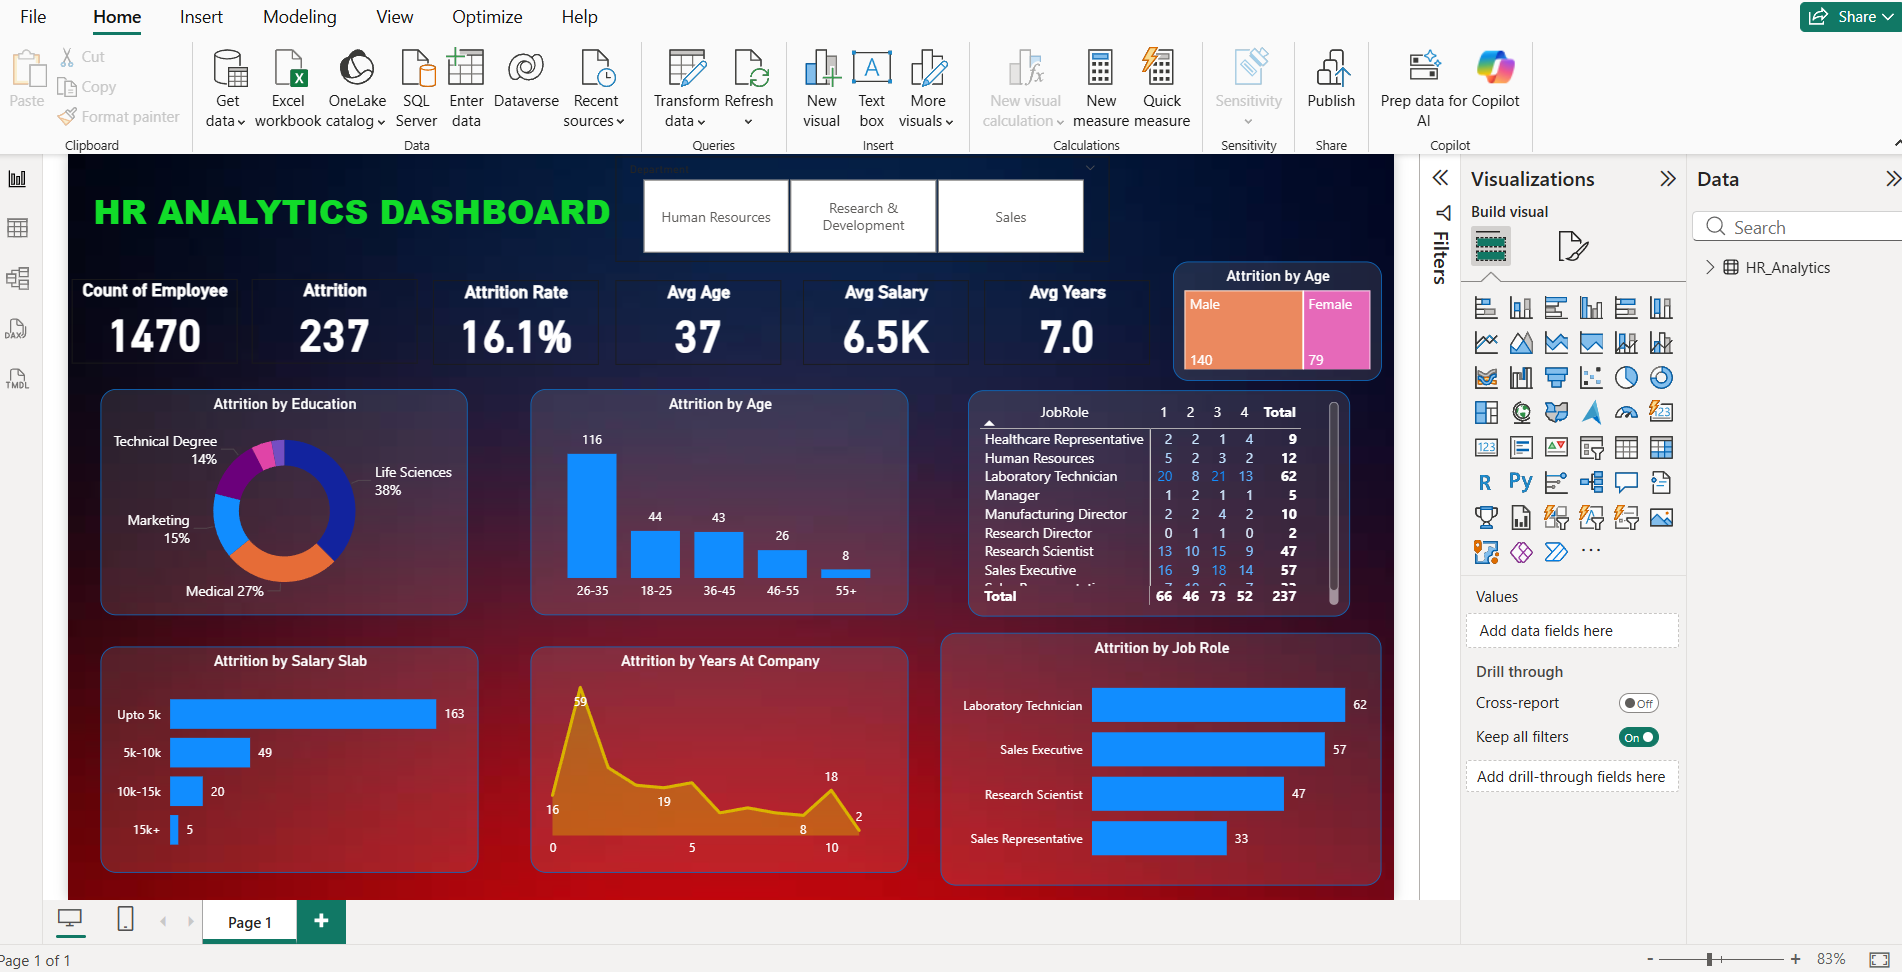

The dashboard page shown, as its layout file describes it:
{"tool":"powerbi","page":{"name":"Page 1","canvas":[1280,720],"ordinal":0},"visuals":[{"type":"card","title":"Count of Employee","fields":{"Values":["CountNonNull(HR_Analytics.EmpID)"]},"box":[3.1,120.5,159.7,81.8],"z":0},{"type":"card","title":"Attrition","fields":{"Values":["Sum(HR_Analytics.Attrition_count)"]},"box":[177.1,120.5,159.7,81.8],"z":1000},{"type":"card","title":"Attrition Rate","fields":{"Values":["HR_Analytics.AttritionRate"]},"box":[352.5,121.8,159.7,81.8],"z":2000},{"type":"card","title":"Avg Age","fields":{"Values":["Avg(HR_Analytics.Age)"]},"box":[528.6,122.1,159.7,81.8],"z":3000},{"type":"card","title":"Avg Salary","fields":{"Values":["Avg(HR_Analytics.MonthlyIncome)"]},"box":[709.1,122.1,159.7,81.8],"z":4000},{"type":"card","title":"Avg Years","fields":{"Values":["Avg(HR_Analytics.YearsAtCompany)"]},"box":[884.4,122.1,159.7,81.8],"z":5000},{"type":"donutChart","title":"Attrition by Education","fields":{"Category":["HR_Analytics.EducationField"],"Y":["Sum(HR_Analytics.Attrition_count)"]},"box":[31.2,227.3,354.5,218.2],"z":6000},{"type":"columnChart","title":"Attrition by Age","fields":{"Category":["HR_Analytics.AgeGroup"],"Y":["Sum(HR_Analytics.Attrition_count)"]},"box":[446.8,227.3,364.9,218.2],"z":7000},{"type":"pivotTable","fields":{"Rows":["HR_Analytics.JobRole"],"Columns":["HR_Analytics.JobSatisfaction"],"Values":["Sum(HR_Analytics.Attrition_count)"]},"box":[868.6,227.8,368.8,218.2],"z":8000},{"type":"barChart","title":"Attrition by Salary Slab","fields":{"Category":["HR_Analytics.SalarySlab"],"Y":["Sum(HR_Analytics.Attrition_count)"]},"box":[31.2,475.3,364.9,218.2],"z":9000},{"type":"barChart","title":"Attrition by Job Role","fields":{"Y":["Sum(HR_Analytics.Attrition_count)"],"Category":["HR_Analytics.JobRole"]},"box":[841.6,462.3,426,244.2],"z":10000},{"type":"areaChart","title":"Attrition by Years At Company","fields":{"Category":["HR_Analytics.YearsAtCompany"],"Y":["Sum(HR_Analytics.Attrition_count)"]},"box":[446.8,475.3,364.9,218.2],"z":11000},{"type":"treemap","title":"Attrition by Age","fields":{"Group":["HR_Analytics.Gender"],"Values":["Sum(HR_Analytics.Attrition_count)"]},"box":[1066.2,103.9,201.3,115.6],"z":12000},{"type":"slicer","fields":{"Values":["HR_Analytics.Department"]},"box":[528.6,2.6,476.6,101.3],"z":13000},{"type":"textbox","box":[19.5,27.3,522.1,55.8],"z":14000}]}

Visuals, with their boxes on the page's 1280x720 design canvas (x1, y1, x2, y2). These are canvas units, not pixel positions in the 1902x972 screenshot, which may show the page scaled, cropped or inside an application window:
"Count of Employee" card: [x1=3, y1=120, x2=163, y2=202]
"Attrition" card: [x1=177, y1=120, x2=337, y2=202]
"Attrition Rate" card: [x1=352, y1=122, x2=512, y2=204]
"Avg Age" card: [x1=529, y1=122, x2=688, y2=204]
"Avg Salary" card: [x1=709, y1=122, x2=869, y2=204]
"Avg Years" card: [x1=884, y1=122, x2=1044, y2=204]
"Attrition by Education" donutChart: [x1=31, y1=227, x2=386, y2=446]
"Attrition by Age" columnChart: [x1=447, y1=227, x2=812, y2=446]
pivotTable - HR_Analytics.JobRole x HR_Analytics.JobSatisfaction: [x1=869, y1=228, x2=1237, y2=446]
"Attrition by Salary Slab" barChart: [x1=31, y1=475, x2=396, y2=694]
"Attrition by Job Role" barChart: [x1=842, y1=462, x2=1268, y2=706]
"Attrition by Years At Company" areaChart: [x1=447, y1=475, x2=812, y2=694]
"Attrition by Age" treemap: [x1=1066, y1=104, x2=1268, y2=220]
slicer - HR_Analytics.Department: [x1=529, y1=3, x2=1005, y2=104]
textbox: [x1=20, y1=27, x2=542, y2=83]
